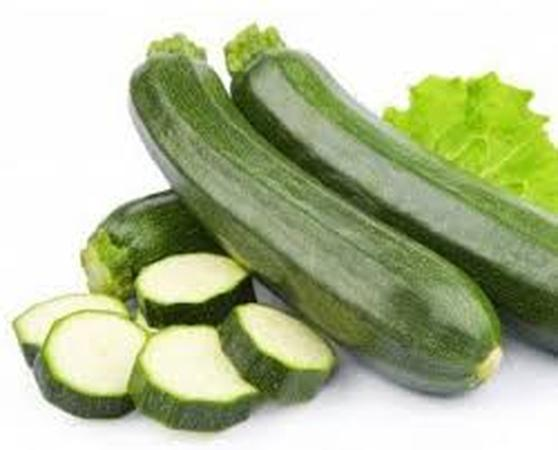zucchini: (232, 19, 558, 332)
